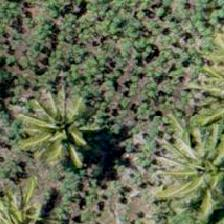Kelapa_Sawit: (22, 84, 112, 174), (166, 130, 223, 221)
